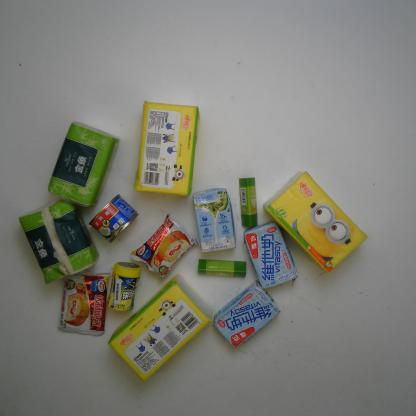Canned Food: (89, 193, 140, 245)
Dessert: (130, 212, 199, 282), (56, 269, 110, 336)
Gum: (106, 260, 142, 312)
Milk: (213, 278, 281, 350), (242, 220, 299, 291), (191, 186, 237, 255)
Stationery: (197, 257, 248, 280), (238, 176, 259, 228)
Tissue: (107, 273, 214, 382), (262, 170, 370, 274), (17, 197, 100, 285), (46, 120, 122, 209), (133, 100, 201, 198)
